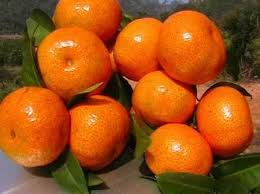orange: (33, 27, 113, 98), (1, 85, 67, 165), (156, 9, 229, 81), (65, 91, 132, 169), (131, 65, 199, 132), (194, 80, 253, 152), (143, 121, 213, 179), (111, 11, 167, 80)
